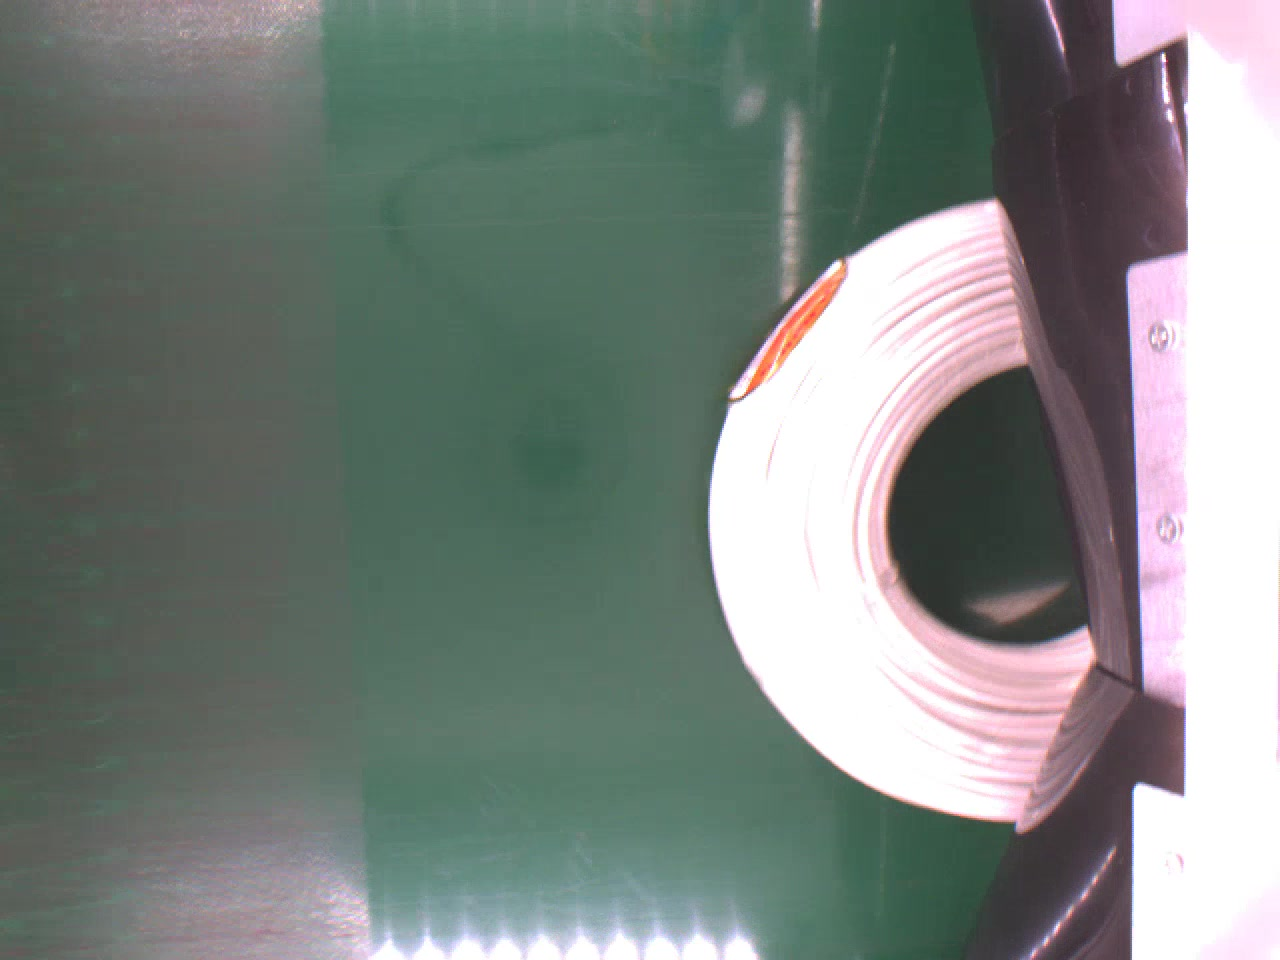white: (707, 197, 1099, 827)
